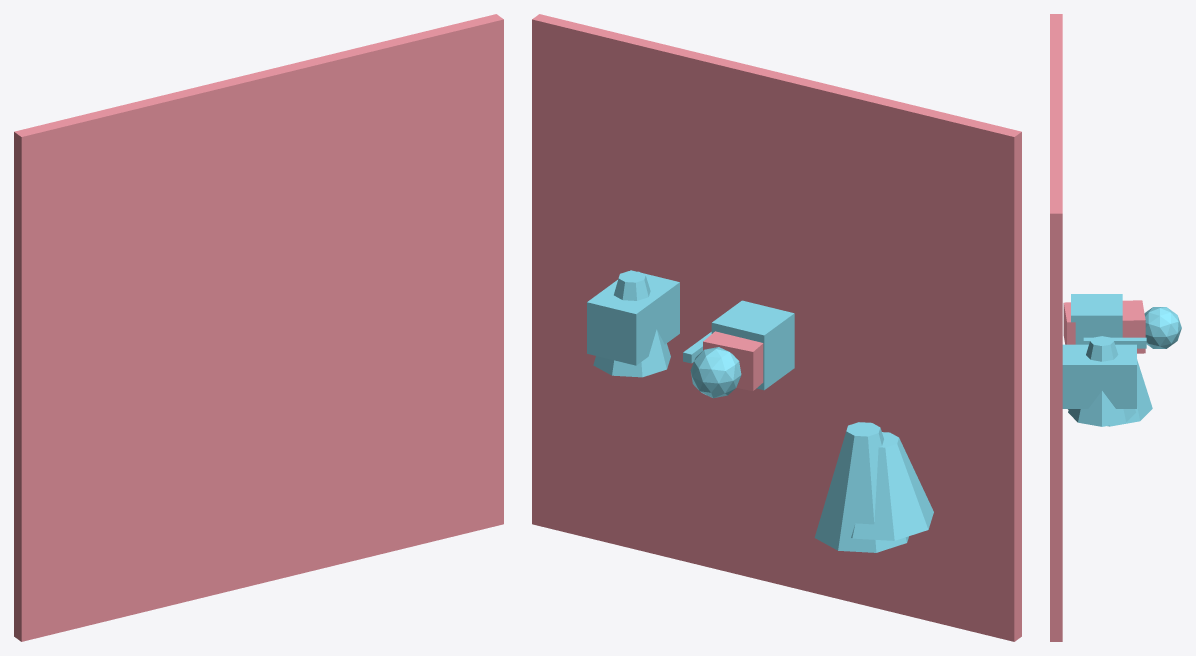
The model's file is mech-arena-kit.glb.
3 renders of one model, left to right at view 1: azimuth 30°, elevation 25°; view 2: azimuth 150°, elevation 25°; view 3: azimuth 270°, elevation 25°, orthographic. The views are drawn at different scales.
Visible parts, largest first — view 1: ENVIRONMENT_GROUND; view 2: ENVIRONMENT_GROUND, PROFILE_ENVIRONMENT_DETAIL, PROFILE_OBSTACLE_DETAIL, ENVIRONMENT_LANDMARK, PROFILE_PLAYER_DETAIL, OBSTACLE, PLAYER_HEAD, PLAYER_BODY; view 3: ENVIRONMENT_GROUND, PROFILE_OBSTACLE_DETAIL, PROFILE_PLAYER_DETAIL, OBSTACLE, PLAYER_BODY, PLAYER_HEAD, PROFILE_ENVIRONMENT_DETAIL, PLAYER_TOOL.
Part boxes in pixels (x1,y1,x2,y2): ENVIRONMENT_GROUND: [14, 14, 503, 641]; ENVIRONMENT_GROUND: [532, 14, 1021, 641]; PROFILE_ENVIRONMENT_DETAIL: [814, 422, 908, 552]; PROFILE_OBSTACLE_DETAIL: [587, 270, 679, 365]; ENVIRONMENT_LANDMARK: [851, 432, 933, 540]; PROFILE_PLAYER_DETAIL: [711, 300, 794, 390]; OBSTACLE: [593, 271, 670, 377]; PLAYER_HEAD: [690, 347, 741, 398]; PLAYER_BODY: [703, 331, 763, 390]; ENVIRONMENT_GROUND: [1050, 14, 1062, 641]; PROFILE_OBSTACLE_DETAIL: [1062, 344, 1136, 408]; PROFILE_PLAYER_DETAIL: [1071, 294, 1122, 344]; OBSTACLE: [1068, 336, 1135, 426]; PLAYER_BODY: [1063, 300, 1145, 353]; PLAYER_HEAD: [1144, 307, 1181, 348]; PROFILE_ENVIRONMENT_DETAIL: [1068, 359, 1152, 426]; PLAYER_TOOL: [1083, 337, 1146, 348].
Size of what is drawn, in the model's own units: 9 by 9 by 2.51.
